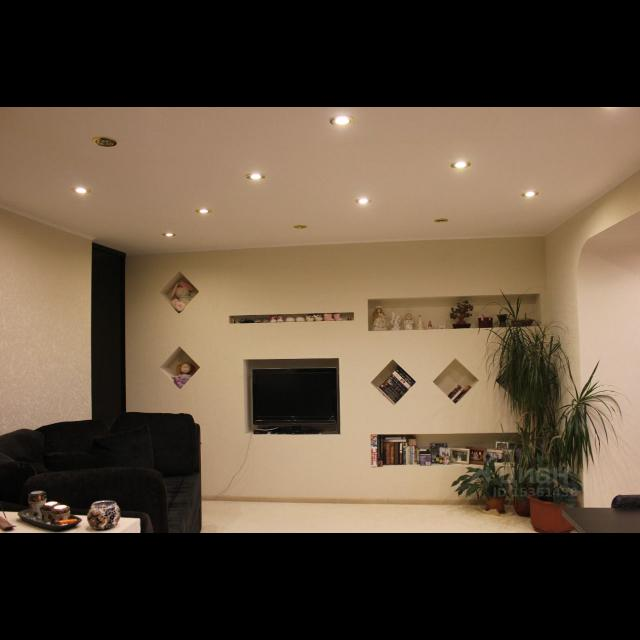Flat-Panel-TV: (249, 364, 339, 432)
